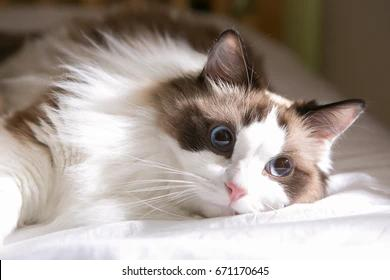ragdoll: (153, 23, 372, 251)
